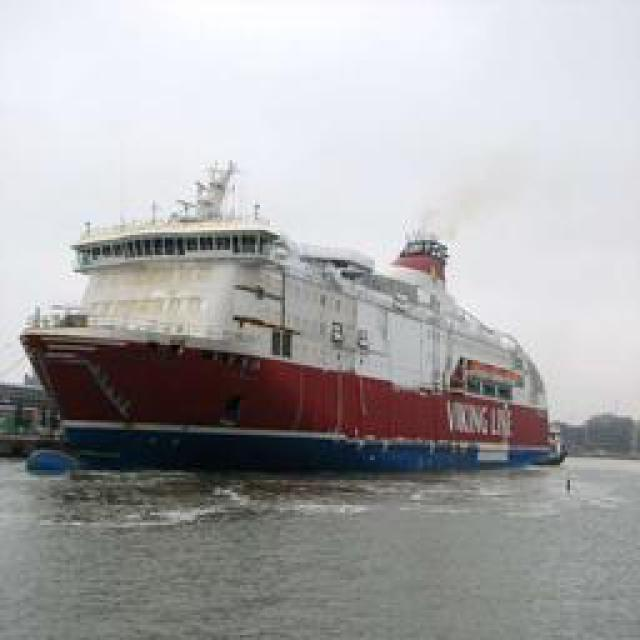Ship: (15, 214, 558, 474)
